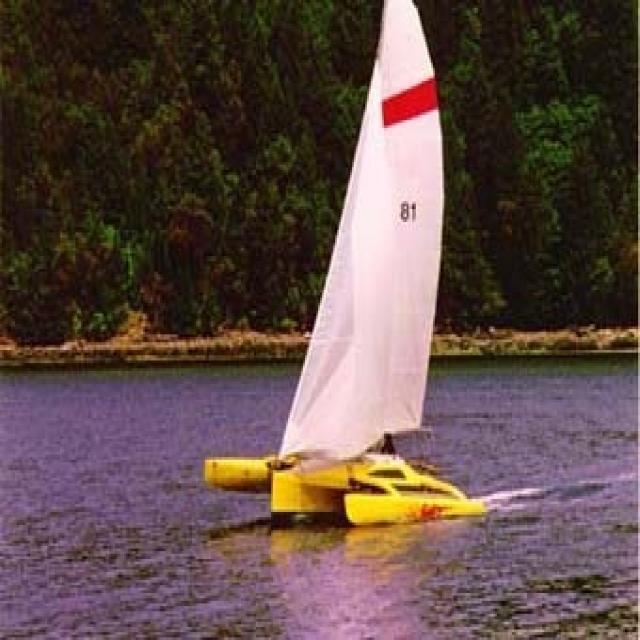Ship: (204, 1, 502, 522)
